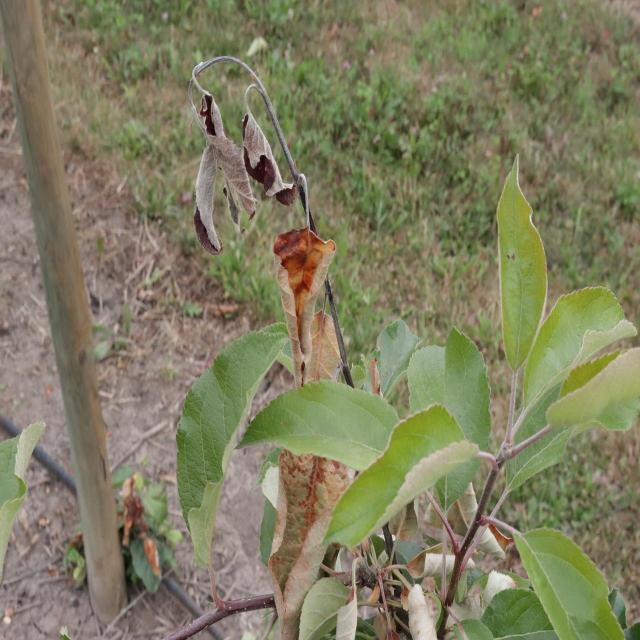-FireBlight-: (176, 66, 294, 228), (256, 190, 324, 395), (344, 551, 449, 640), (280, 432, 328, 621)
